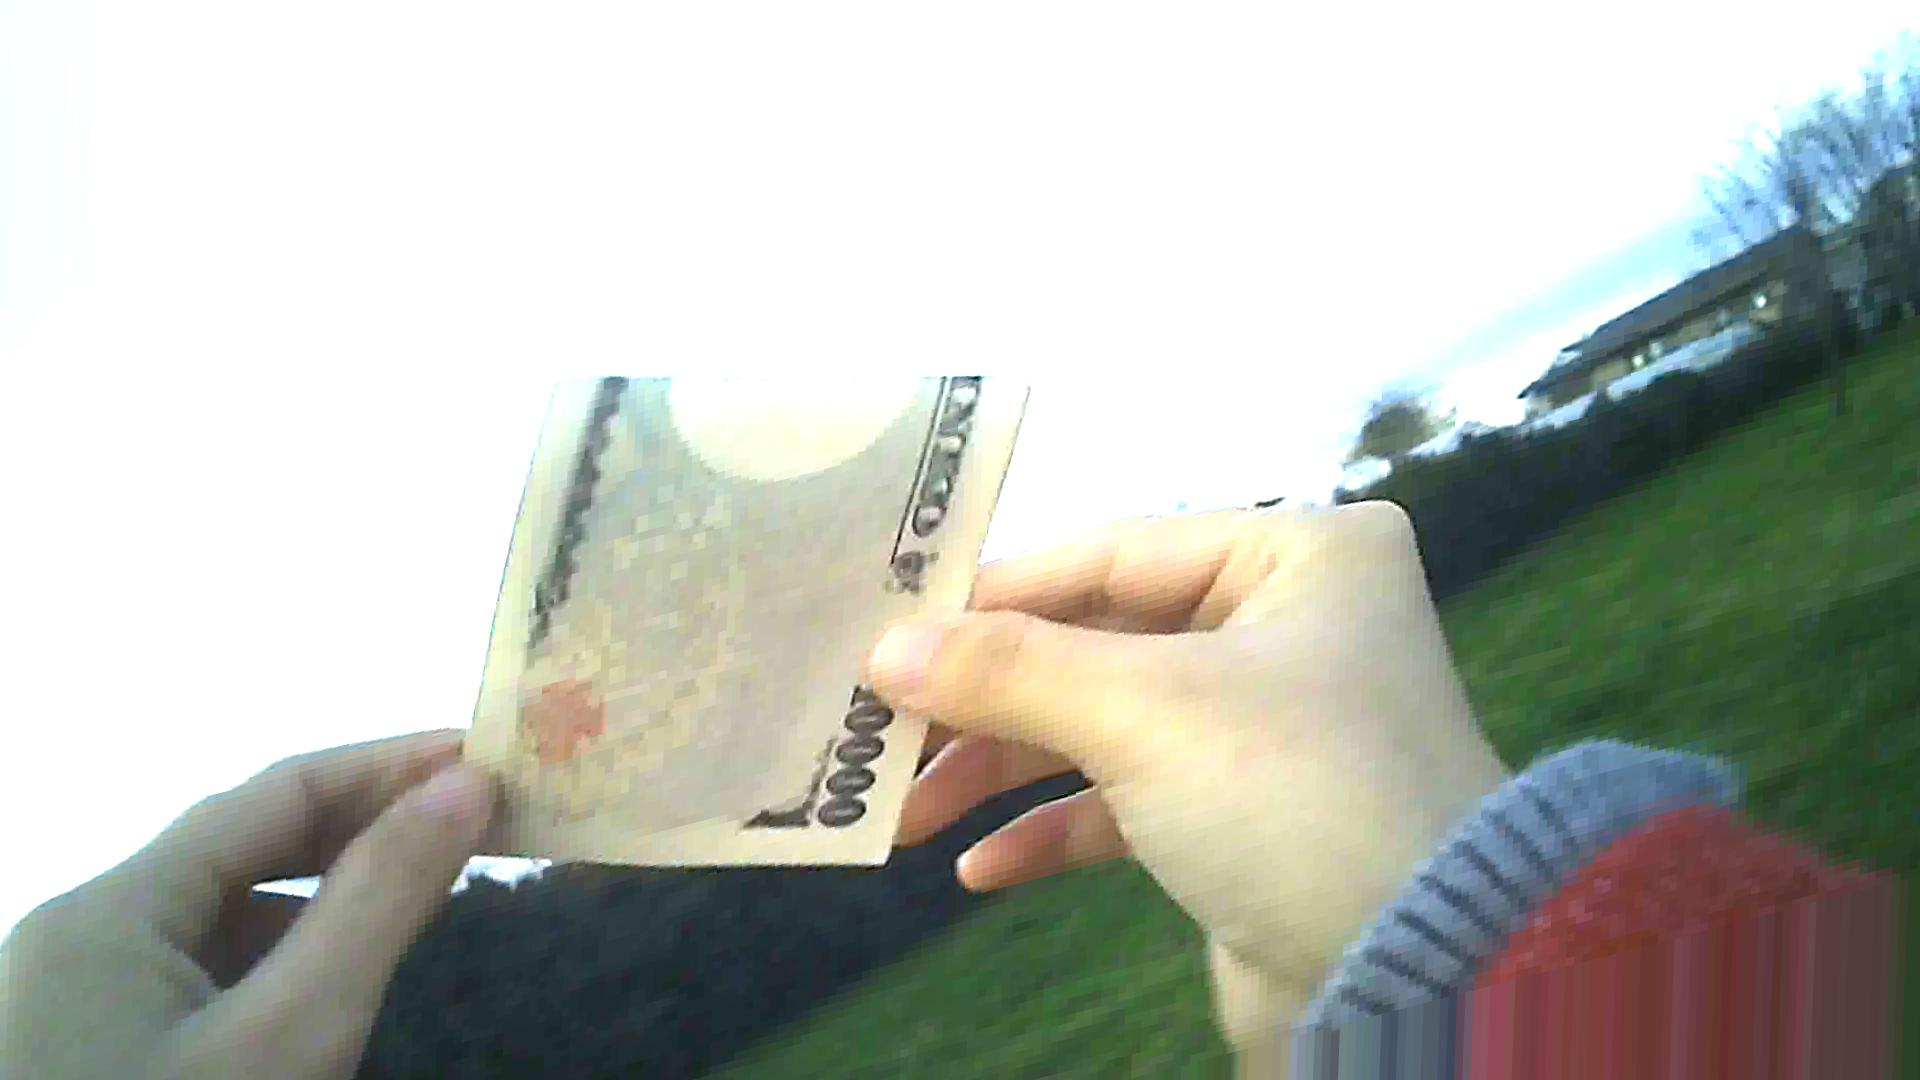10,000 Yen: (419, 309, 1007, 869)
